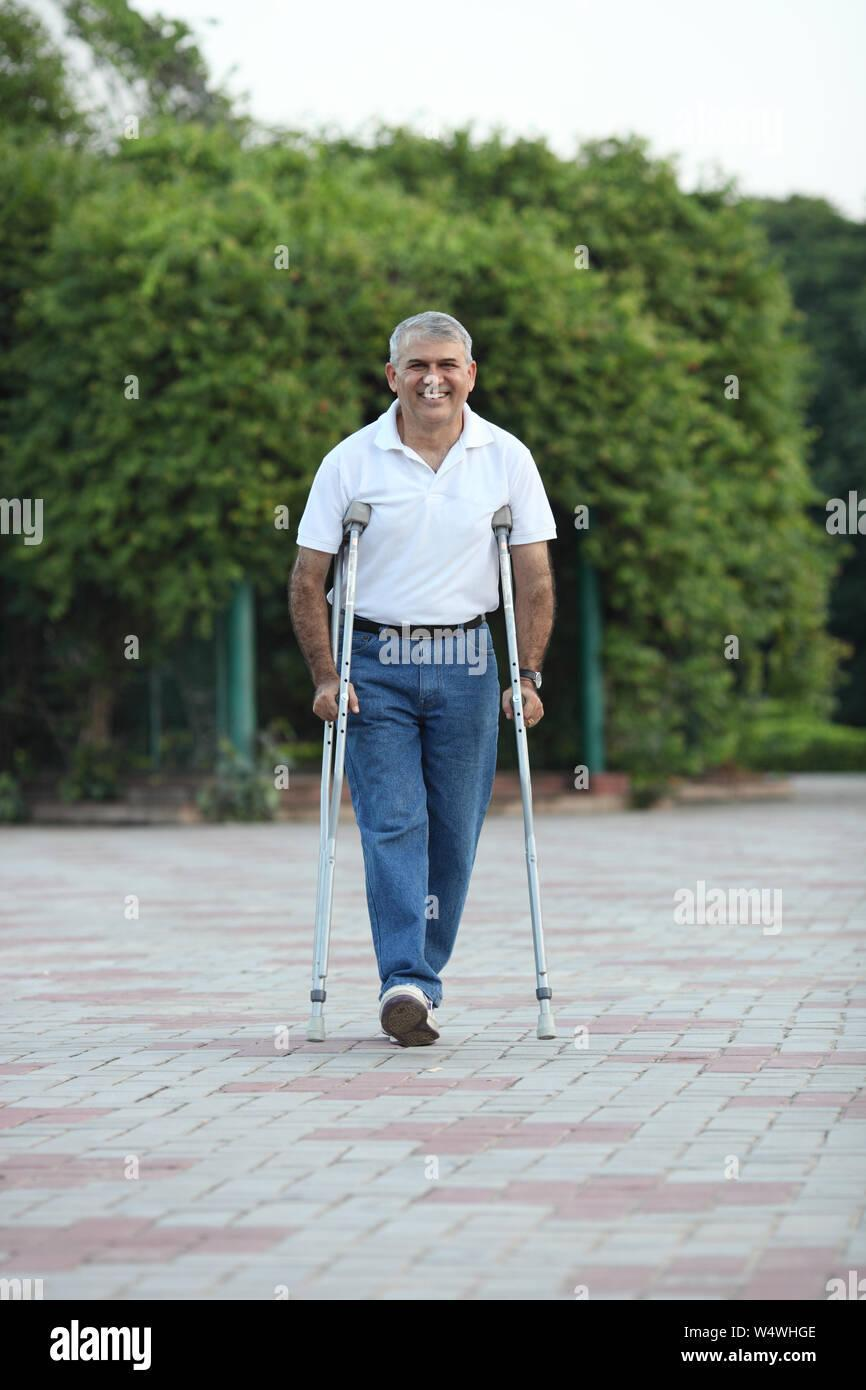crutches: (304, 312, 556, 1046)
